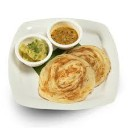parota: (39, 56, 97, 103), (69, 45, 111, 85)
